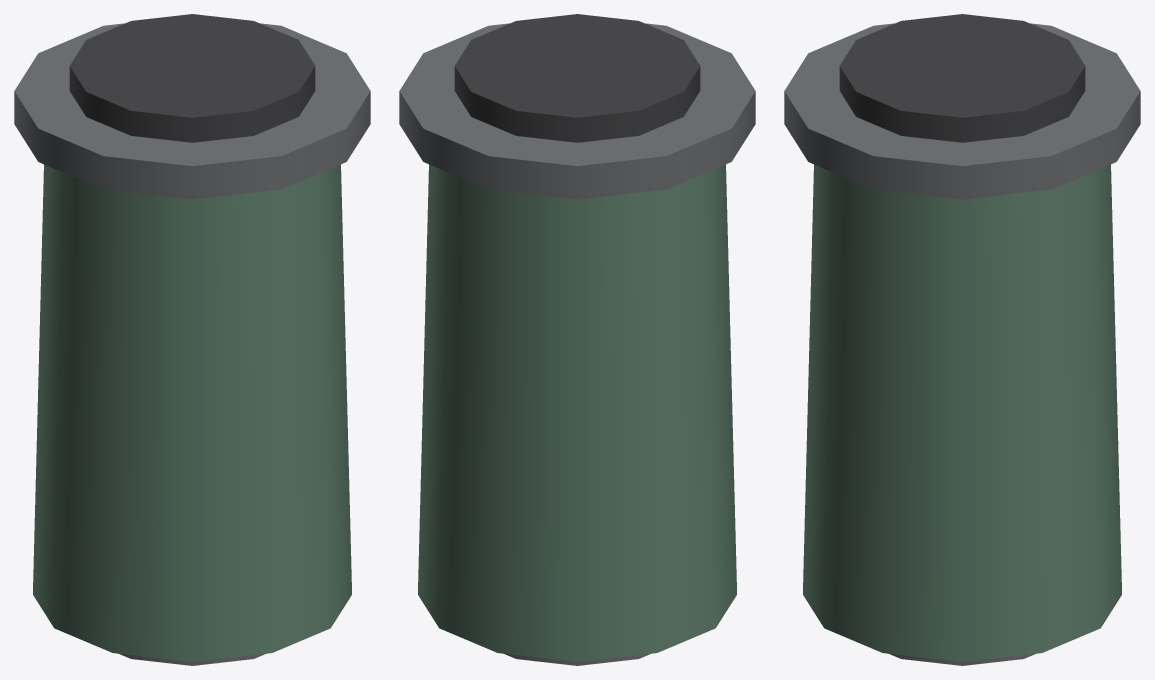
File: bin.glb
The picture shows the model from 3 angles, left to right: view 1: azimuth 30°, elevation 25°; view 2: azimuth 150°, elevation 25°; view 3: azimuth 270°, elevation 25°; orthographic projection.
Visible parts, largest first — view 1: bin; view 2: bin; view 3: bin.
Boxes of the visible parts, x1=… form: bin: x1=14, y1=14, x2=370, y2=665; bin: x1=399, y1=14, x2=755, y2=665; bin: x1=784, y1=14, x2=1140, y2=665.
Bounding box in the file's own units: 0.58 × 0.985 × 0.58.
